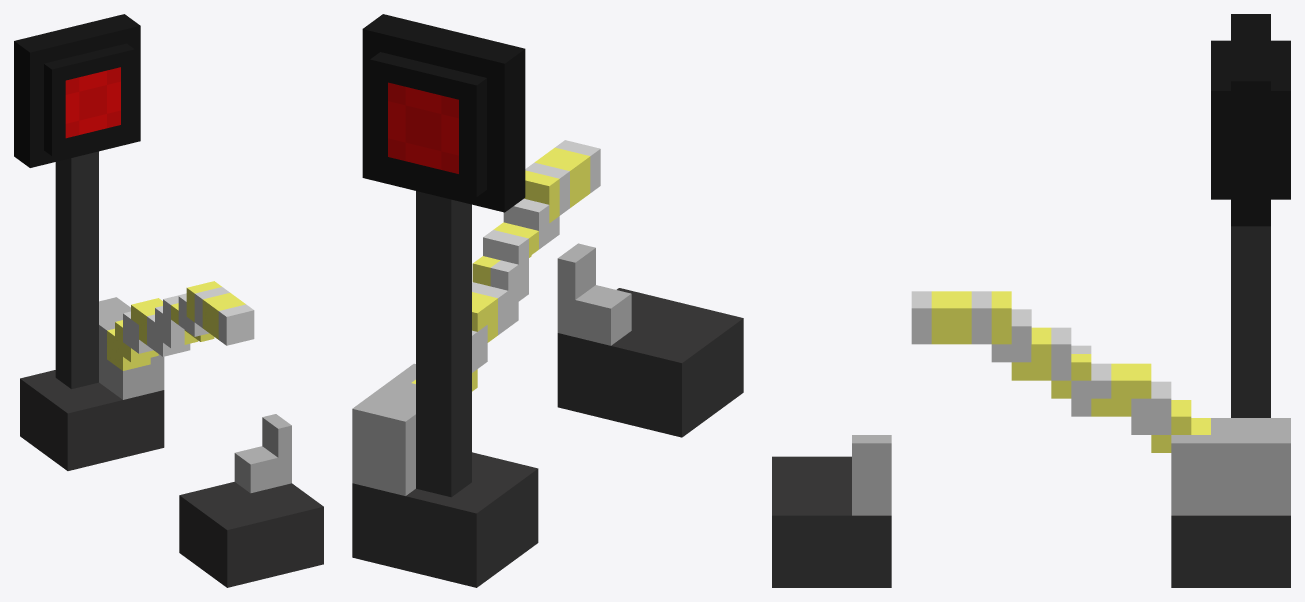
File: ampel closed 2.5.obj
3 views of the same model, side by side, from view 1: azimuth 30°, elevation 25°; view 2: azimuth 150°, elevation 25°; view 3: azimuth 270°, elevation 25° (orthographic). The views are drawn at different scales.
Bounding box in the file's own units: 0.8 × 2.8 × 2.6.
Materials: 1 (1 with a texture image).
